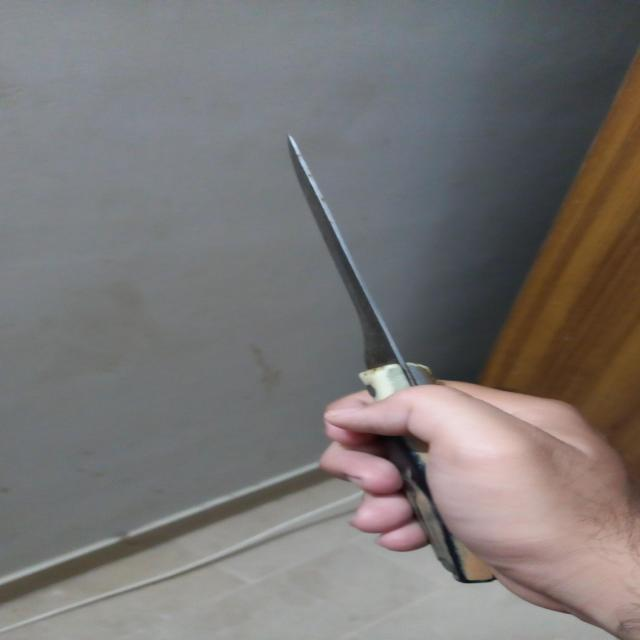faca: (285, 135, 496, 578)
